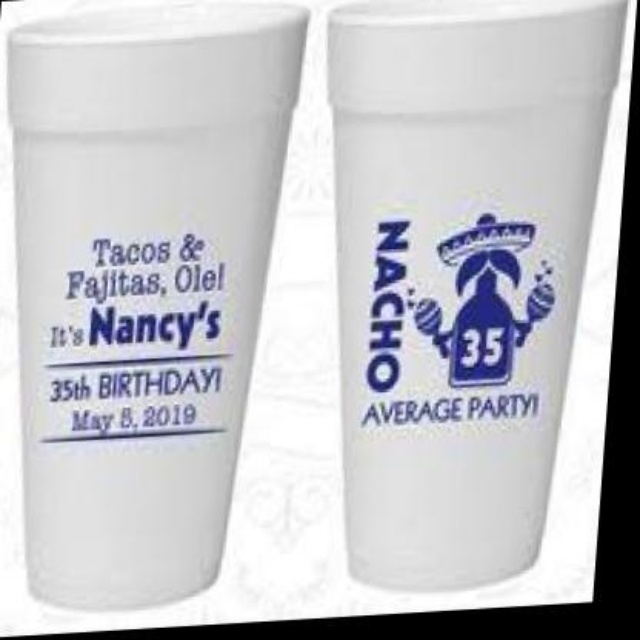trash: (8, 5, 306, 606), (329, 2, 626, 588)
